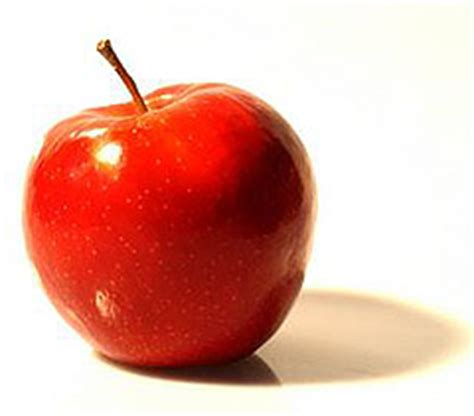apple: (13, 69, 323, 376)
